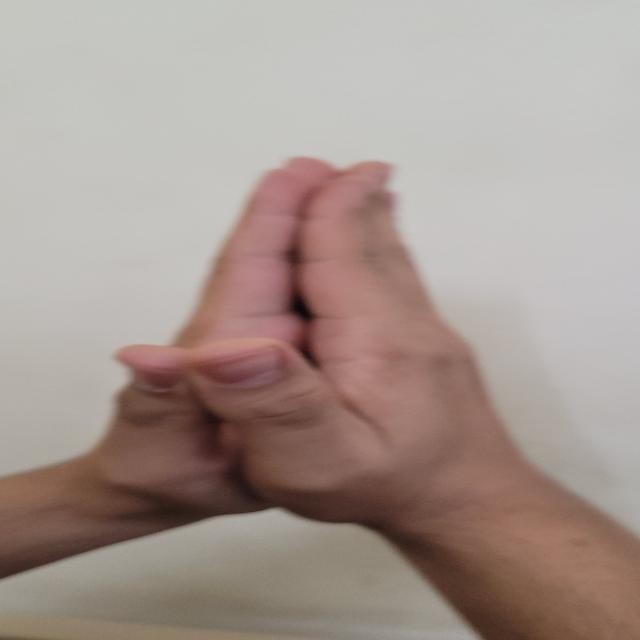Thank You: (100, 152, 543, 514)
